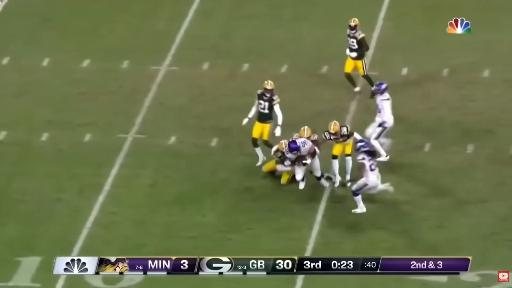Helmet: (355, 139, 377, 158), (355, 139, 371, 153), (373, 82, 387, 94), (288, 139, 300, 153), (264, 80, 274, 96), (349, 18, 359, 34), (328, 121, 340, 134), (300, 127, 312, 138), (263, 80, 274, 90), (278, 140, 287, 151)
Jersey: (256, 90, 279, 123), (285, 138, 313, 159), (347, 30, 366, 59), (358, 154, 379, 178), (376, 93, 393, 122), (323, 131, 354, 143), (272, 146, 286, 163), (307, 134, 318, 146)
Player: (243, 80, 282, 165), (352, 139, 393, 213), (323, 121, 361, 186), (285, 138, 328, 189), (345, 18, 374, 92), (366, 82, 393, 160), (262, 140, 293, 183), (293, 126, 319, 146)
